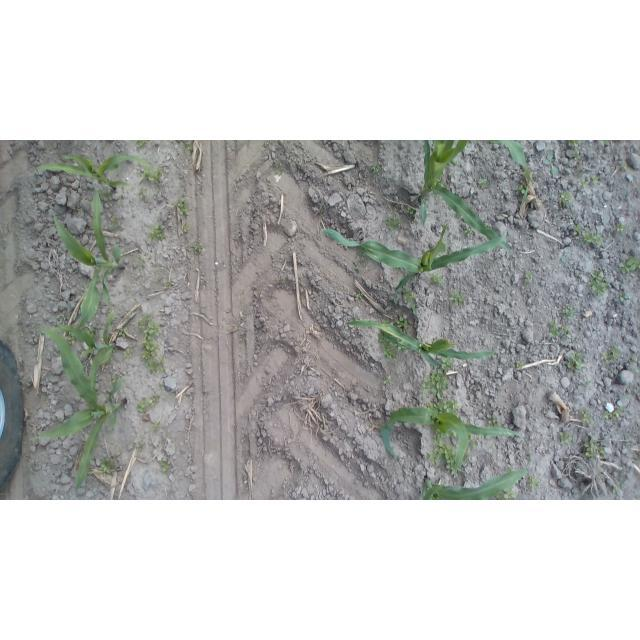Maize: (320, 221, 513, 308), (35, 326, 126, 491), (413, 141, 531, 256), (53, 181, 128, 332), (380, 405, 522, 463), (345, 321, 499, 370), (60, 308, 117, 397), (40, 153, 151, 189), (421, 470, 528, 500)
Weeds: (136, 312, 166, 374), (422, 368, 451, 399), (378, 329, 407, 359), (424, 397, 460, 419), (589, 269, 611, 298), (442, 444, 456, 477), (140, 162, 162, 182), (147, 223, 169, 242), (584, 439, 605, 458), (138, 396, 161, 413), (402, 291, 418, 315), (98, 456, 117, 475), (425, 448, 445, 466), (620, 256, 640, 274), (352, 252, 369, 273), (543, 153, 559, 175), (176, 196, 192, 217), (568, 353, 585, 372), (601, 348, 621, 364), (432, 427, 445, 448), (449, 291, 468, 305), (386, 215, 401, 232), (395, 315, 409, 333), (496, 488, 517, 500), (584, 232, 603, 245), (548, 320, 560, 340), (439, 356, 453, 373), (605, 408, 624, 420), (559, 192, 573, 207), (85, 324, 98, 340), (528, 476, 540, 493), (580, 409, 593, 424), (562, 304, 574, 320), (159, 457, 169, 474), (560, 431, 573, 444), (100, 187, 112, 201), (431, 273, 446, 284), (468, 434, 479, 449), (117, 326, 129, 338), (561, 326, 572, 339), (523, 271, 533, 285), (190, 244, 205, 253), (488, 418, 500, 429), (460, 453, 472, 464), (433, 179, 447, 188), (111, 215, 121, 227), (136, 140, 149, 149), (108, 308, 117, 321), (372, 163, 383, 173), (136, 255, 145, 267), (138, 187, 147, 199), (68, 332, 76, 345), (186, 141, 194, 154), (619, 292, 629, 302), (516, 184, 526, 194), (407, 205, 416, 216), (561, 249, 568, 263), (272, 165, 280, 176), (449, 341, 460, 349), (112, 374, 121, 383), (572, 150, 580, 160), (572, 225, 580, 235), (612, 483, 620, 493), (479, 178, 487, 188), (464, 226, 472, 236), (123, 348, 133, 356), (183, 222, 190, 233), (581, 180, 589, 189), (615, 223, 624, 231), (620, 161, 628, 170), (152, 422, 160, 431), (136, 444, 144, 453), (448, 429, 457, 437), (568, 141, 578, 148), (61, 311, 68, 321), (516, 360, 524, 368), (593, 175, 600, 184), (457, 464, 463, 473), (382, 379, 392, 384), (116, 196, 122, 204), (603, 140, 612, 145), (281, 275, 288, 281), (357, 292, 364, 298), (383, 319, 390, 325), (631, 358, 637, 365), (350, 317, 358, 322), (164, 284, 172, 289), (508, 464, 513, 472), (490, 445, 496, 451), (584, 380, 589, 387), (634, 368, 640, 373), (635, 496, 640, 500), (528, 460, 532, 464)
